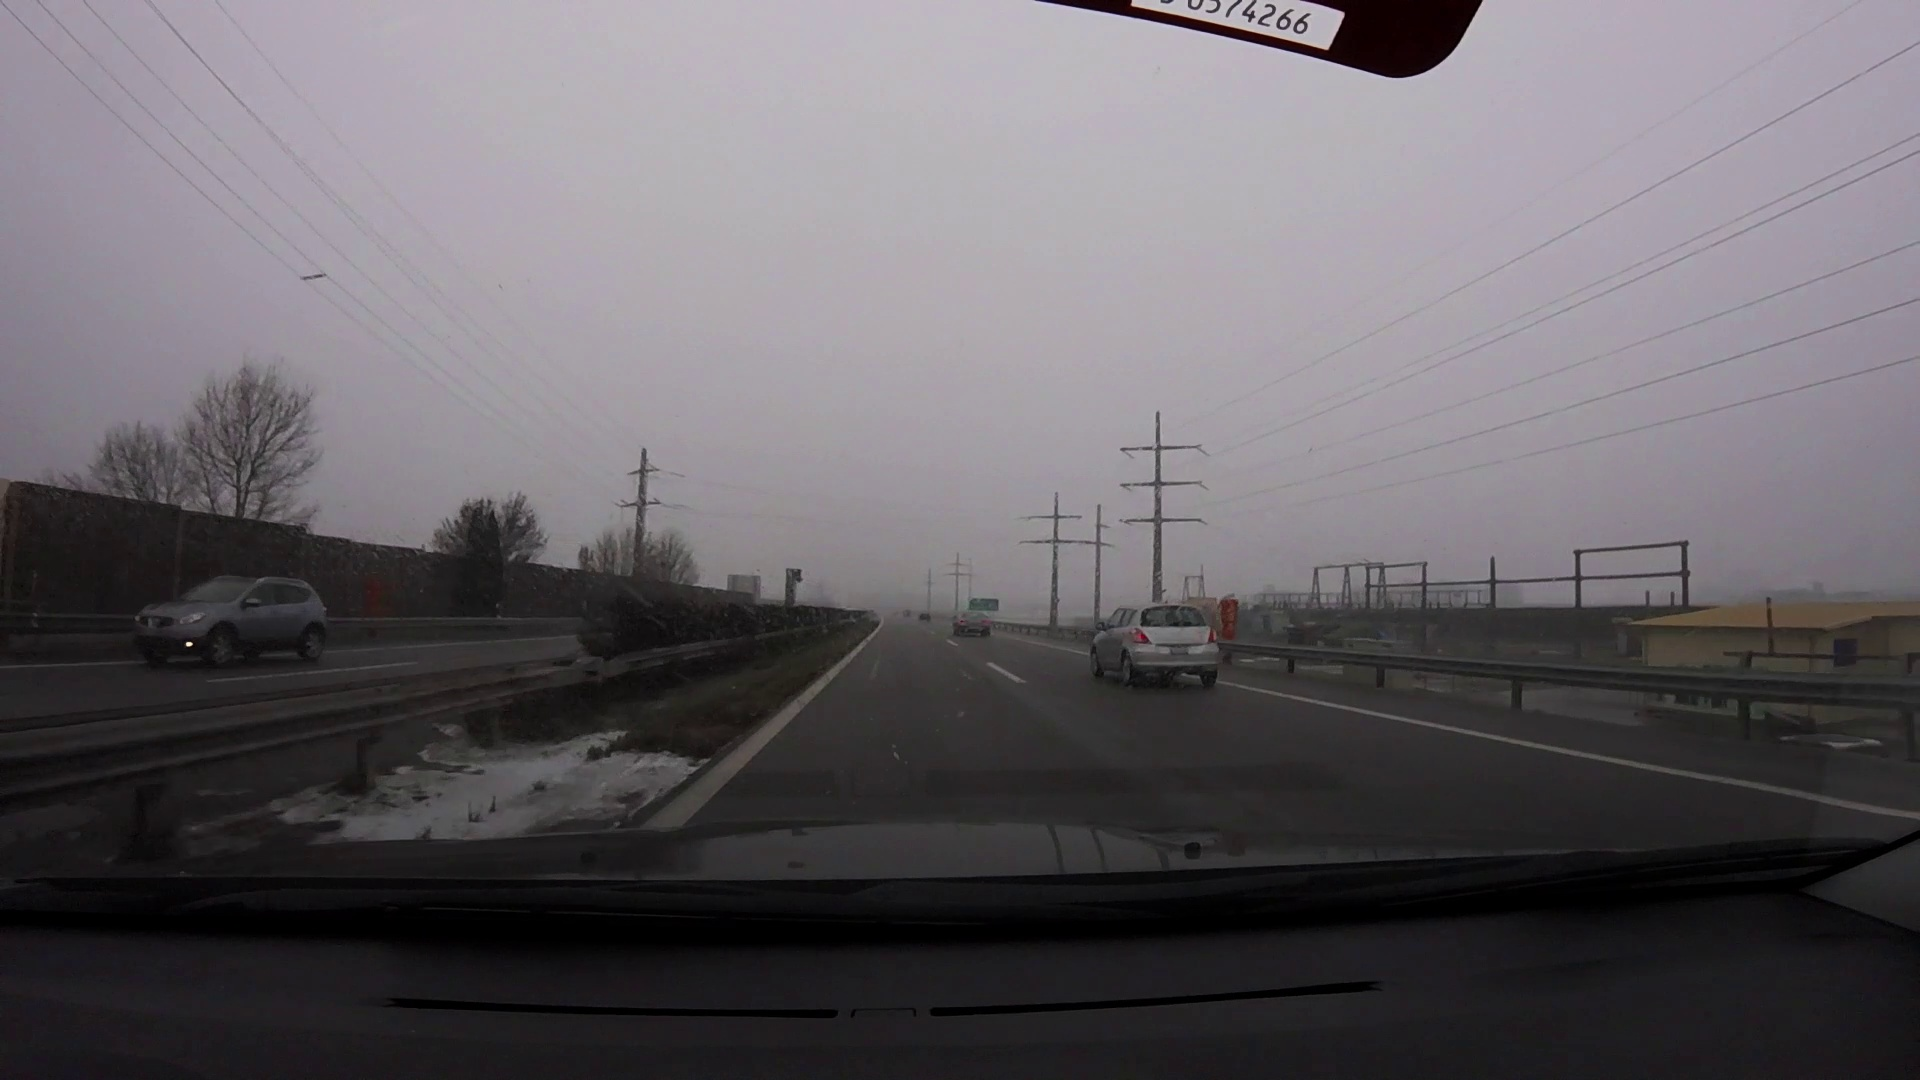radar: (783, 566, 807, 608)
